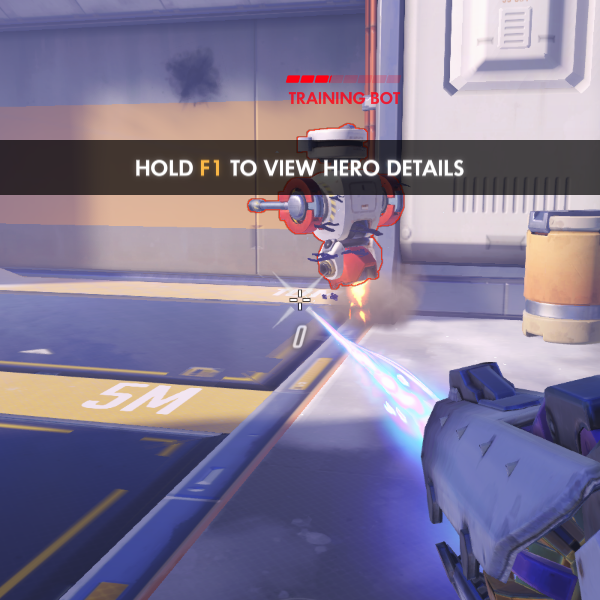hpbar: (285, 74, 402, 84)
